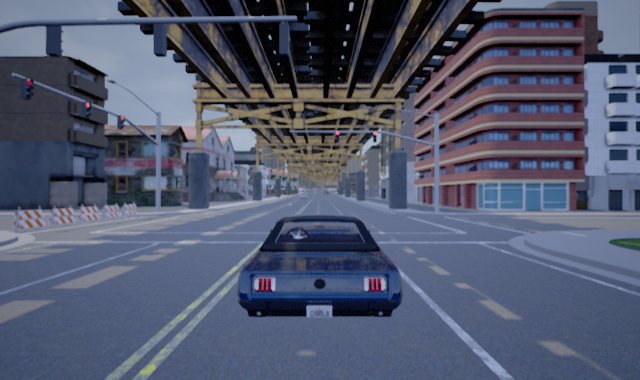vehicle: (238, 214, 400, 318)
